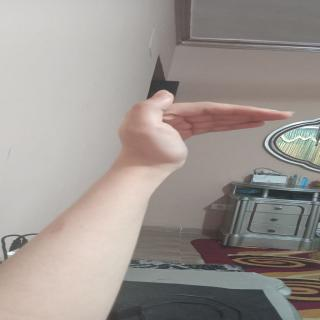KHAA: (120, 83, 292, 171)
